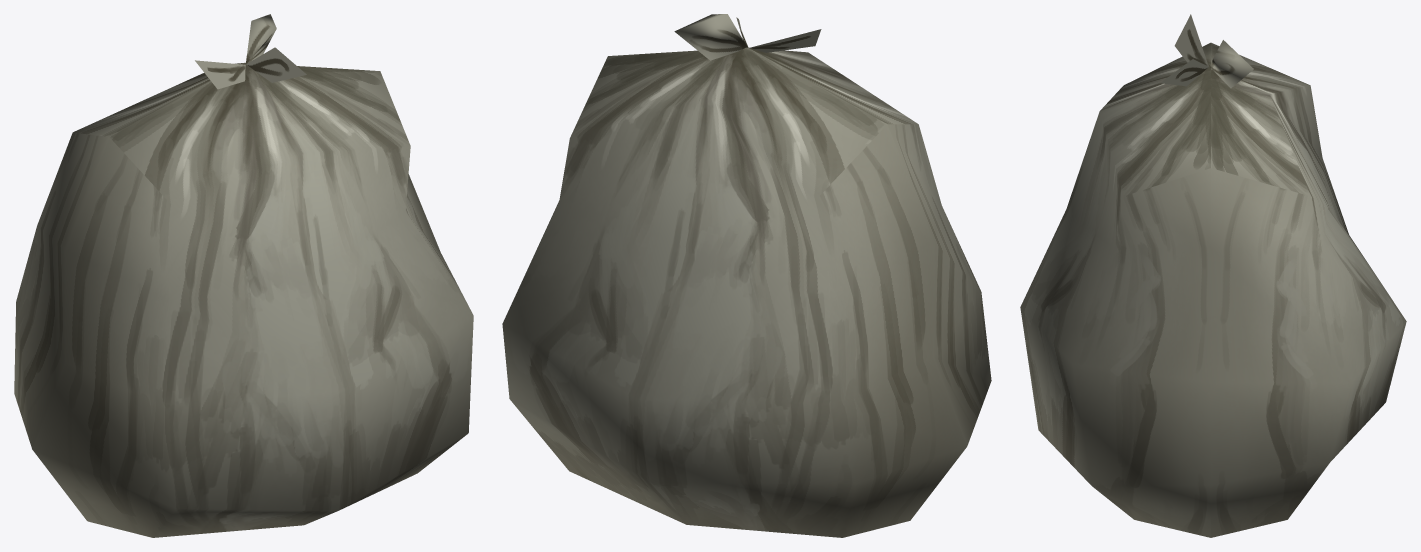
The model's file is TrashBag.fbx.
The picture shows the model from 3 angles, left to right: view 1: azimuth 30°, elevation 25°; view 2: azimuth 150°, elevation 25°; view 3: azimuth 270°, elevation 25°; orthographic projection. The views are drawn at different scales.
Parts seen in each view (by area): view 1: Trashbag; view 2: Trashbag; view 3: Trashbag.
Boxes of the visible parts, x1,y1,x2,y2 form: Trashbag: (14, 14, 473, 537); Trashbag: (502, 14, 991, 537); Trashbag: (1020, 14, 1406, 537).
Size of the model in its own units: 47.4 by 49.89 by 39.53.
